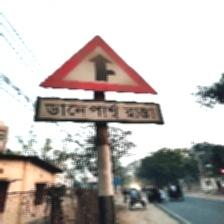Side-road-right: (35, 35, 163, 127)
